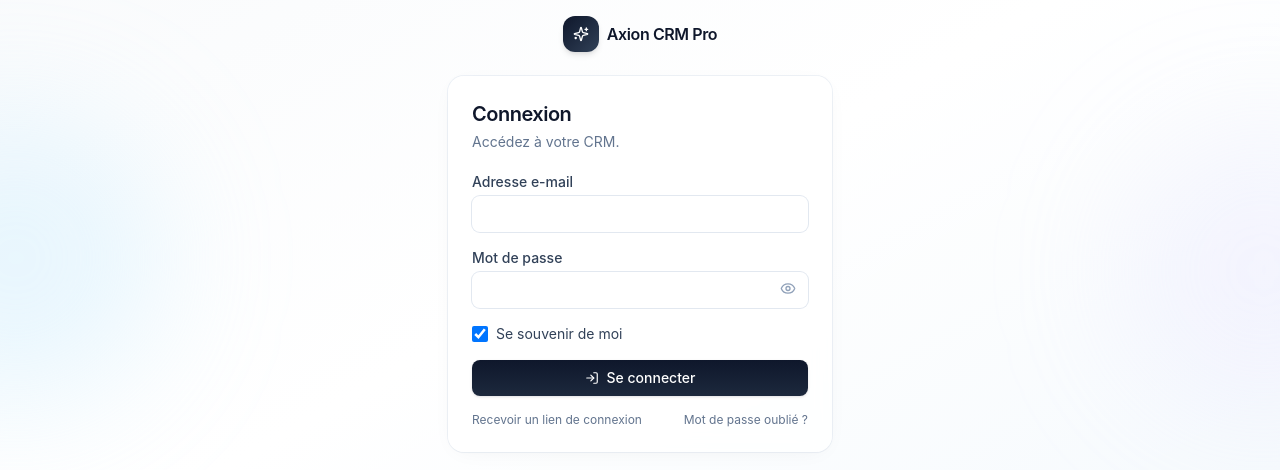
Test: LoginPage — parcours › le bouton œil dévoile puis remasque le mot de passe
In the password field labelled "Mot de passe": (640, 290) [472,272,808,308], type "secret"
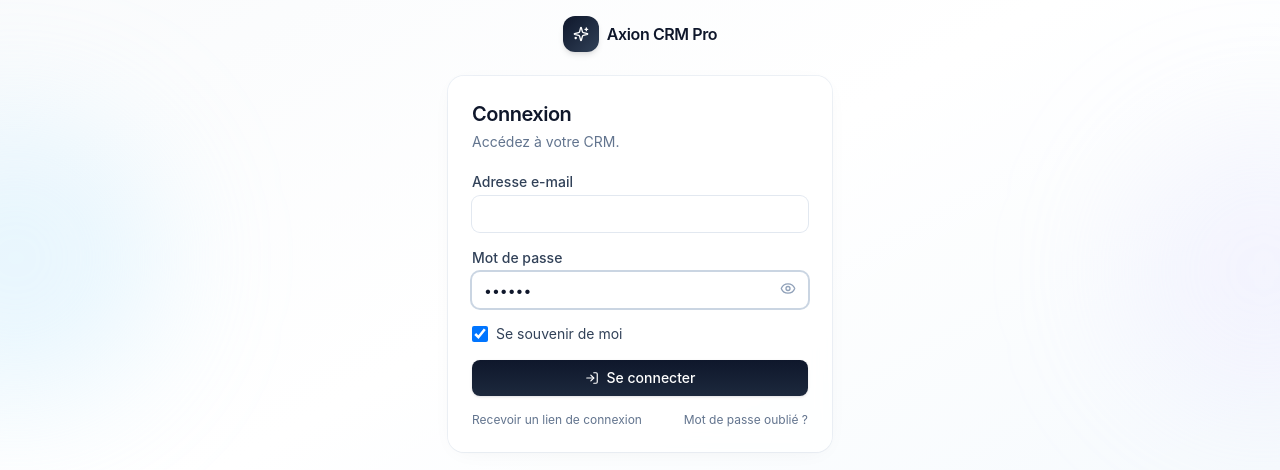
Click the button named "Afficher le mot de passe": (788, 288) [778,278,798,298]
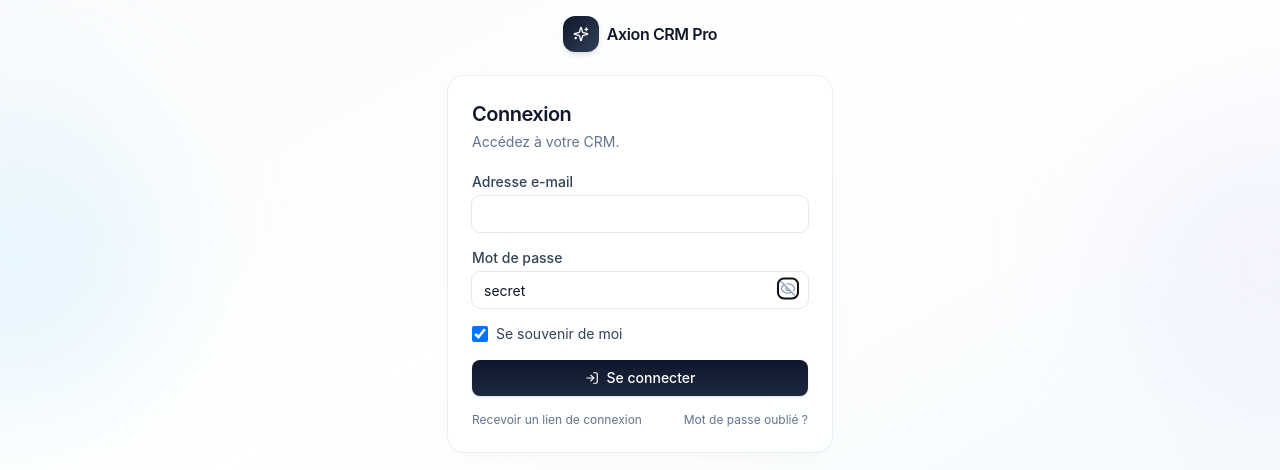
Expected: the field labelled "Mot de passe" shows its text, [472,272,808,308]
Click the button named "Masquer le mot de passe": (788, 288) [778,278,798,298]
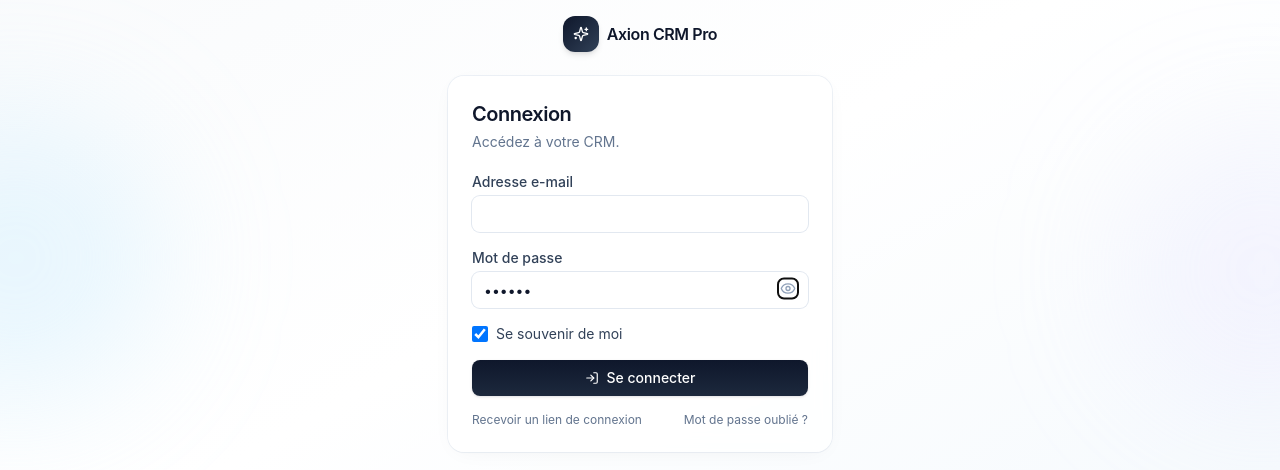
Expected: the password field labelled "Mot de passe" hides its text, [472,272,808,308]
